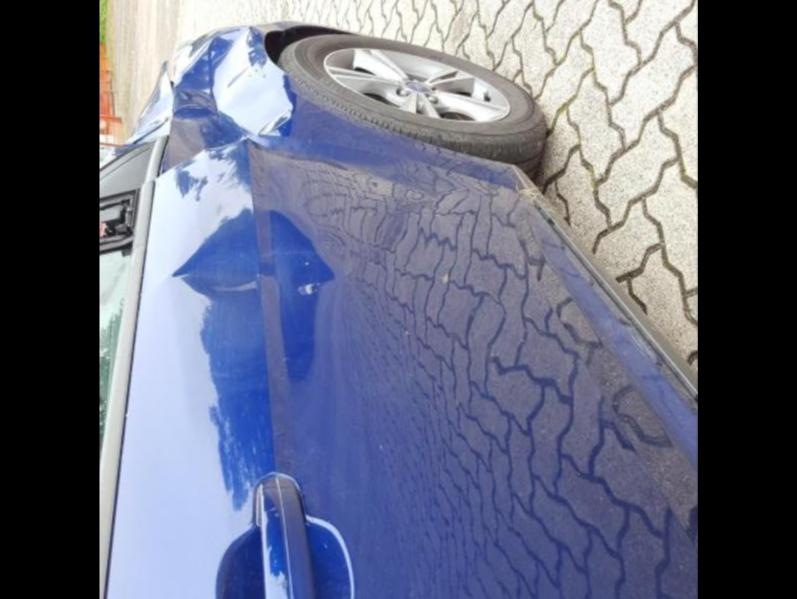Dent: (158, 27, 297, 177), (171, 208, 337, 310), (128, 63, 174, 144)
Missing part: (99, 191, 136, 255)
Scratch: (298, 283, 317, 296), (302, 259, 311, 268)
